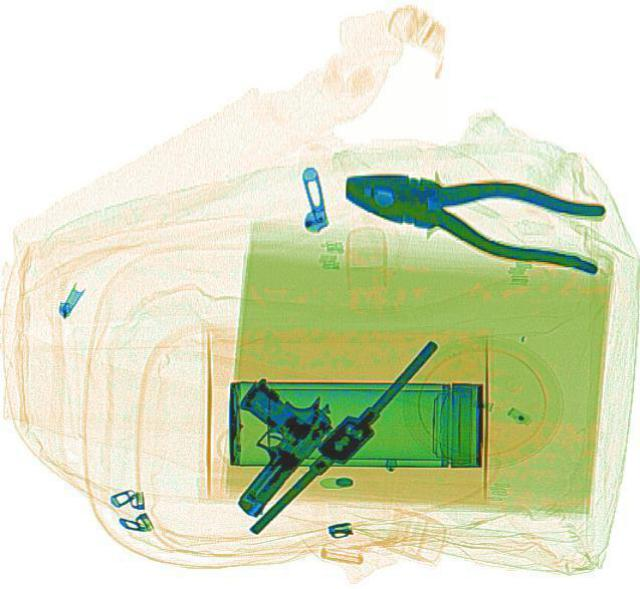Gun: (178, 364, 346, 521)
Pliers: (331, 151, 613, 272)
